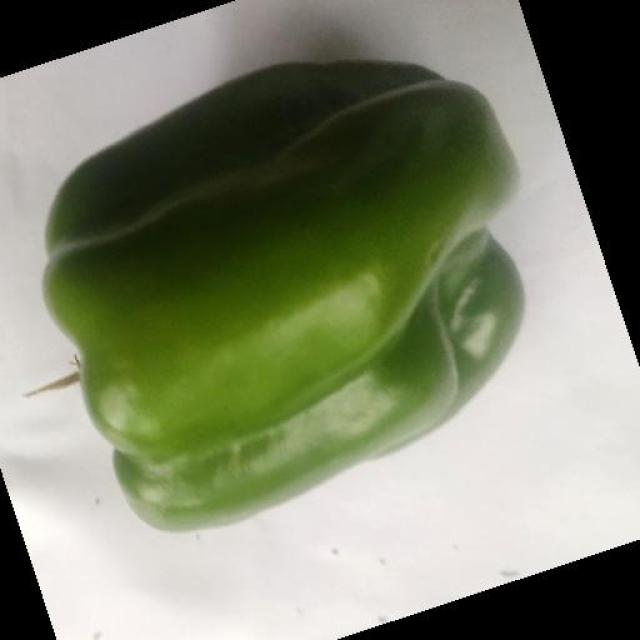Stale_Capsicum: (63, 85, 377, 254)
